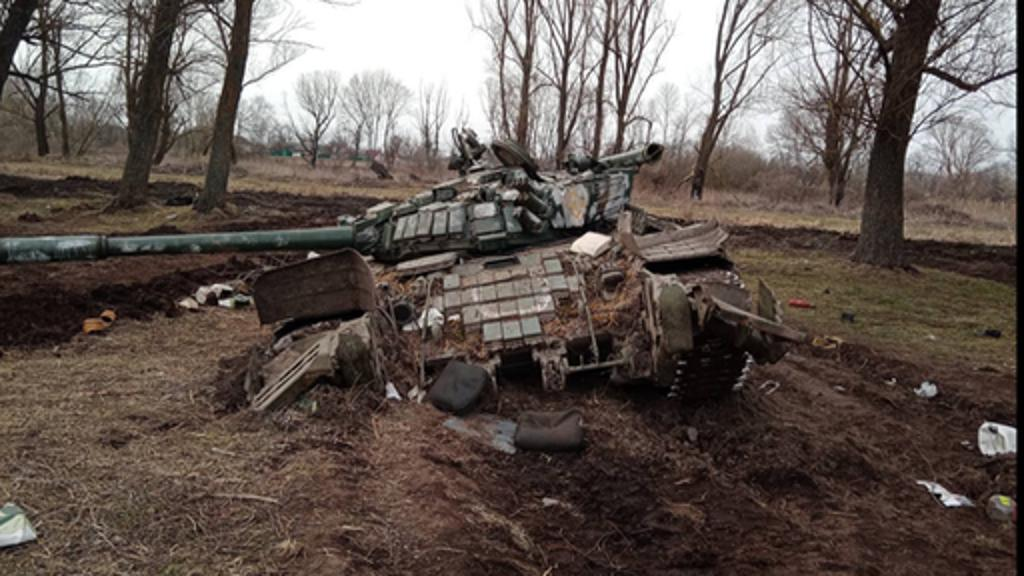TANK: (0, 130, 780, 412)
